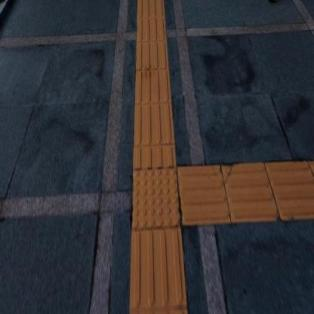Podoctatil: (114, 125, 208, 257), (182, 159, 313, 226), (133, 0, 177, 169), (132, 229, 184, 313)
